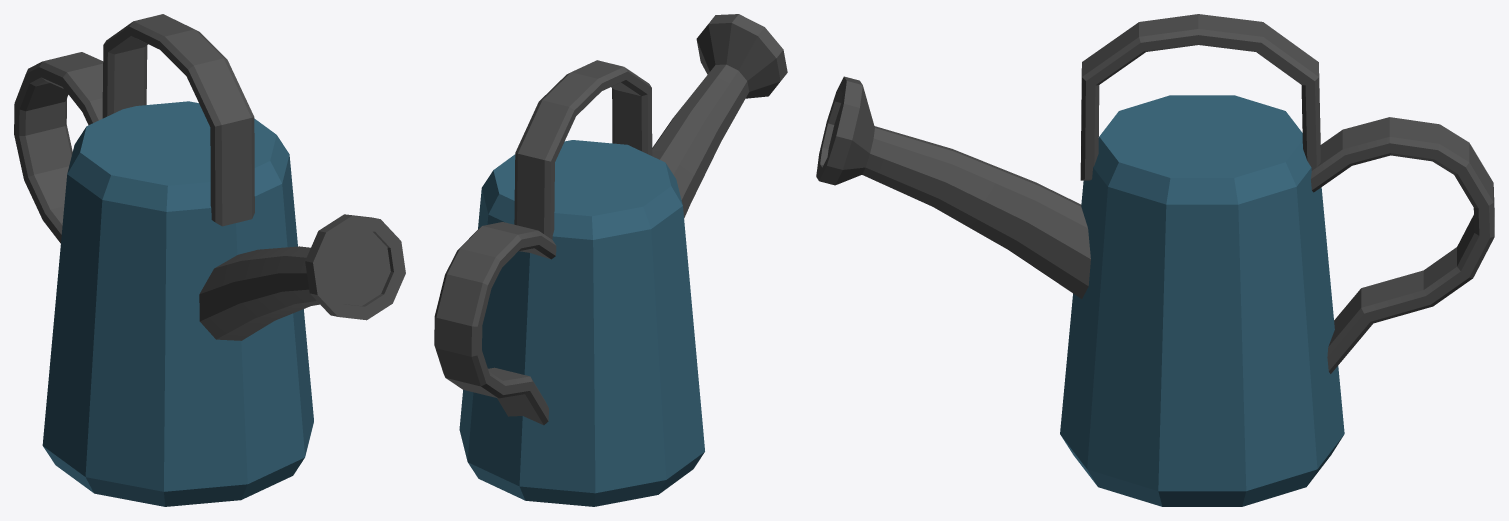
The model's file is watersprinkler_a002.glb.
3 views of the same model, side by side, from view 1: azimuth 30°, elevation 25°; view 2: azimuth 150°, elevation 25°; view 3: azimuth 270°, elevation 25° (orthographic). The views are drawn at different scales.
Visible parts, largest first — view 1: watersprinkler_a002; view 2: watersprinkler_a002; view 3: watersprinkler_a002.
Boxes of the visible parts, x1,y1,x2,y2 form: watersprinkler_a002: (14,14,405,506); watersprinkler_a002: (434,14,787,506); watersprinkler_a002: (816,14,1494,506).
Bounding box in the file's own units: 0.2341 × 0.4135 × 0.5866.
Materials: 1 (1 with a texture image).
